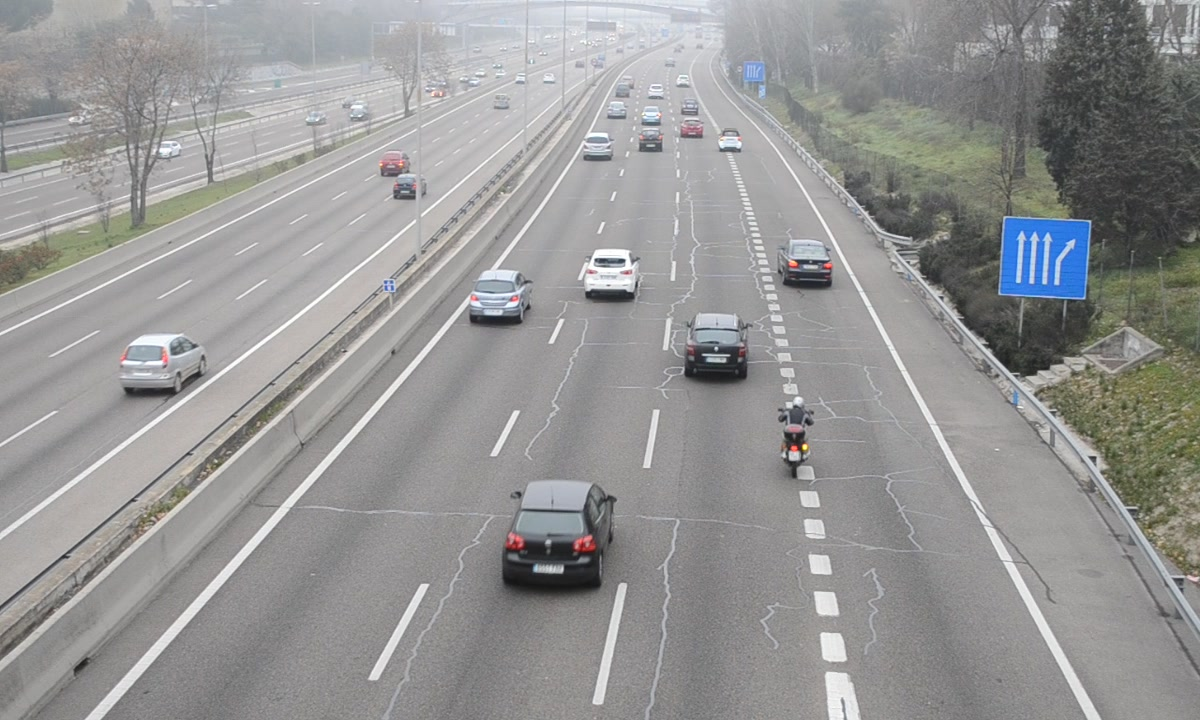car: (503, 481, 615, 587), (684, 313, 748, 377), (470, 269, 531, 321), (583, 249, 637, 295), (781, 239, 834, 283), (582, 131, 614, 162), (718, 126, 742, 153), (639, 127, 663, 153)
motorcycle: (777, 397, 817, 480)
